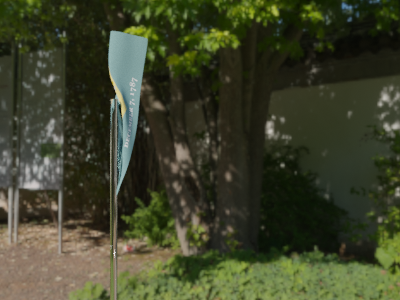Delaware flag: (107, 30, 150, 195)
